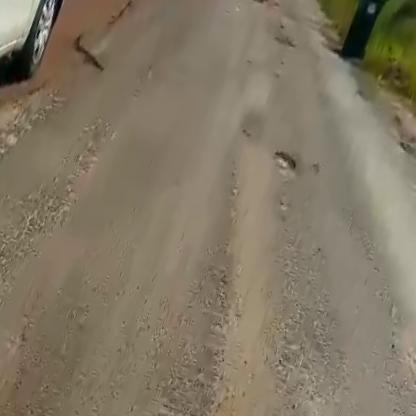pothole: (267, 144, 308, 181)
